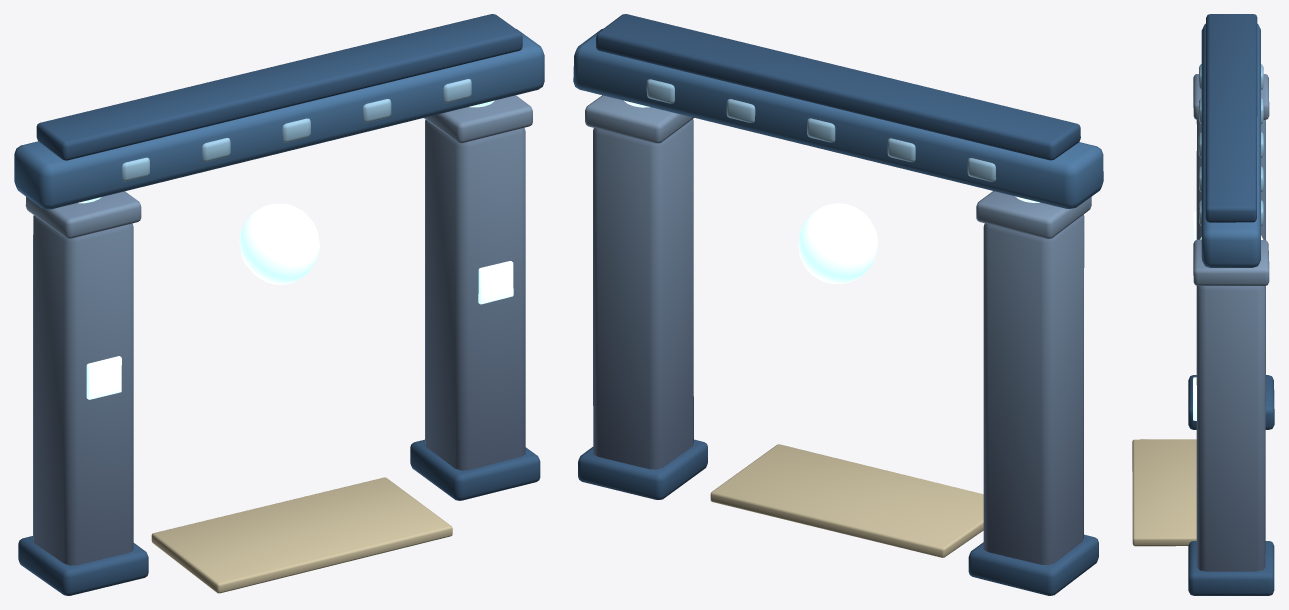
The picture shows the model from 3 angles, left to right: view 1: azimuth 30°, elevation 25°; view 2: azimuth 150°, elevation 25°; view 3: azimuth 270°, elevation 25°; orthographic projection. The views are drawn at different scales.
Visible parts, largest first — view 1: gate_01ca31a7; view 2: gate_01ca31a7; view 3: gate_01ca31a7.
Part boxes in pixels (x1,y1,x2,y2): gate_01ca31a7: [14, 14, 544, 595]; gate_01ca31a7: [573, 14, 1103, 595]; gate_01ca31a7: [1132, 14, 1274, 595].
Bounding box in the file's own units: 5.15 × 4.36 × 1.45.
